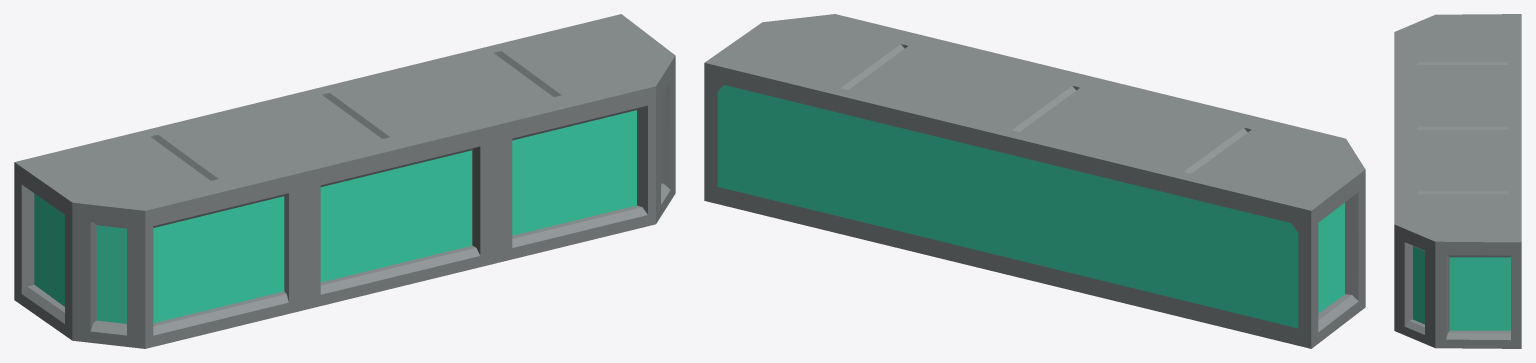
The model's file is deliverystation.fbx.
3 renders of one model, left to right at view 1: azimuth 30°, elevation 25°; view 2: azimuth 150°, elevation 25°; view 3: azimuth 270°, elevation 25°, orthographic. The views are drawn at different scales.
Parts seen in each view (by area): view 1: delivery_base, closer_m2, closer_l2, closer_r2, closer_m1, closer_r1, closer_l1; view 2: delivery_base, closer_r2, closer_m2, closer_l2, closer_m1, closer_r1, closer_l1; view 3: delivery_base, closer_r1, closer_m1, closer_l1, closer_m2, closer_r2, closer_l2.
Boxes of the visible parts, x1=… form: delivery_base: x1=14, y1=14, x2=675, y2=348; closer_m2: x1=326, y1=90, x2=416, y2=138; closer_l2: x1=154, y1=132, x2=244, y2=180; closer_r2: x1=497, y1=48, x2=588, y2=96; closer_m1: x1=295, y1=95, x2=381, y2=141; closer_r1: x1=467, y1=53, x2=552, y2=99; closer_l1: x1=124, y1=136, x2=210, y2=183; delivery_base: x1=704, y1=14, x2=1365, y2=348; closer_r2: x1=814, y1=41, x2=904, y2=89; closer_m2: x1=985, y1=83, x2=1075, y2=131; closer_l2: x1=1157, y1=125, x2=1247, y2=173; closer_m1: x1=1020, y1=88, x2=1106, y2=134; closer_r1: x1=849, y1=46, x2=934, y2=92; closer_l1: x1=1191, y1=130, x2=1277, y2=176; delivery_base: x1=1394, y1=14, x2=1521, y2=348; closer_r1: x1=1416, y1=173, x2=1509, y2=194; closer_m1: x1=1416, y1=108, x2=1509, y2=129; closer_l1: x1=1416, y1=44, x2=1509, y2=64; closer_m2: x1=1417, y1=129, x2=1509, y2=147; closer_r2: x1=1416, y1=194, x2=1509, y2=212; closer_l2: x1=1416, y1=65, x2=1509, y2=83.
Size of the model in its own units: 4.6 by 1 by 1.09.
